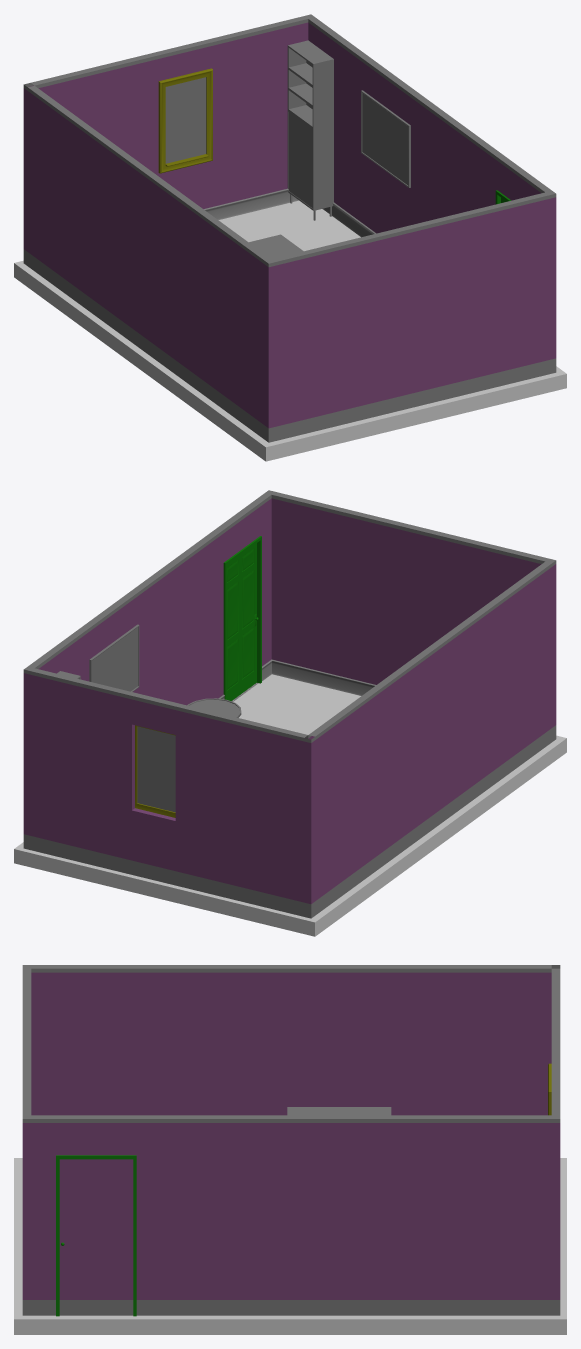
The model's file is FloorPlan207.fbx.
3 views of the same model, one above another, from view 1: azimuth 30°, elevation 25°; view 2: azimuth 150°, elevation 25°; view 3: azimuth 270°, elevation 25° (orthographic). The views are drawn at different scales.
Parts seen in each view (by area): view 1: StandardWallSize, Floor, WallCabinet, StandardWindow2, Picture, CoffeeTable; view 2: StandardWallSize, Floor, StandardDoor1, StandardWindow2, Picture, StandardDoorFrame1, SideTable; view 3: StandardWallSize, Floor, StandardDoorFrame1, TVStand.
Boxes of the visible parts, x1=… form: StandardWallSize: x1=23, y1=14, x2=556, y2=442; Floor: x1=14, y1=200, x2=566, y2=461; WallCabinet: x1=287, y1=40, x2=333, y2=220; StandardWindow2: x1=158, y1=68, x2=212, y2=173; Picture: x1=361, y1=90, x2=410, y2=187; CoffeeTable: x1=249, y1=234, x2=303, y2=258; StandardWallSize: x1=23, y1=490, x2=556, y2=918; Floor: x1=14, y1=674, x2=566, y2=936; StandardDoor1: x1=227, y1=543, x2=256, y2=701; StandardWindow2: x1=135, y1=725, x2=175, y2=817; Picture: x1=89, y1=624, x2=139, y2=691; StandardDoorFrame1: x1=223, y1=536, x2=261, y2=699; SideTable: x1=187, y1=698, x2=241, y2=717; StandardWallSize: x1=22, y1=965, x2=560, y2=1315; Floor: x1=14, y1=1158, x2=566, y2=1334; StandardDoorFrame1: x1=56, y1=1155, x2=136, y2=1316; TVStand: x1=287, y1=1107, x2=391, y2=1115.
Bounding box in the file's own units: 440 × 270 × 638.
